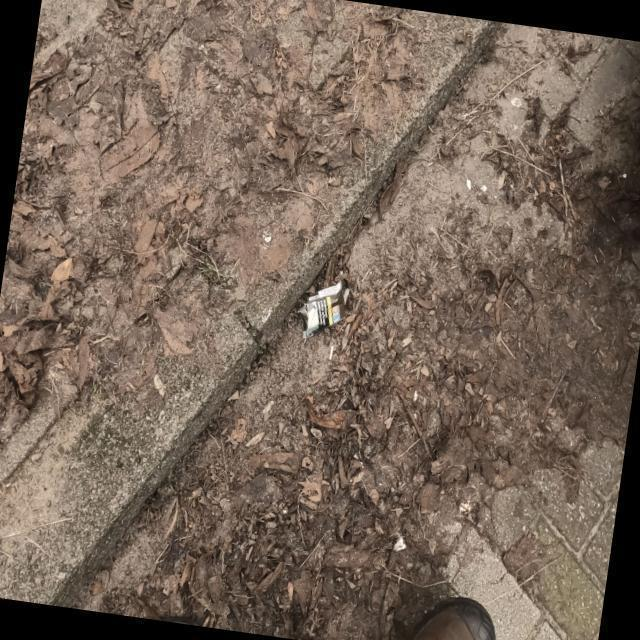Paper: (294, 278, 352, 340)
